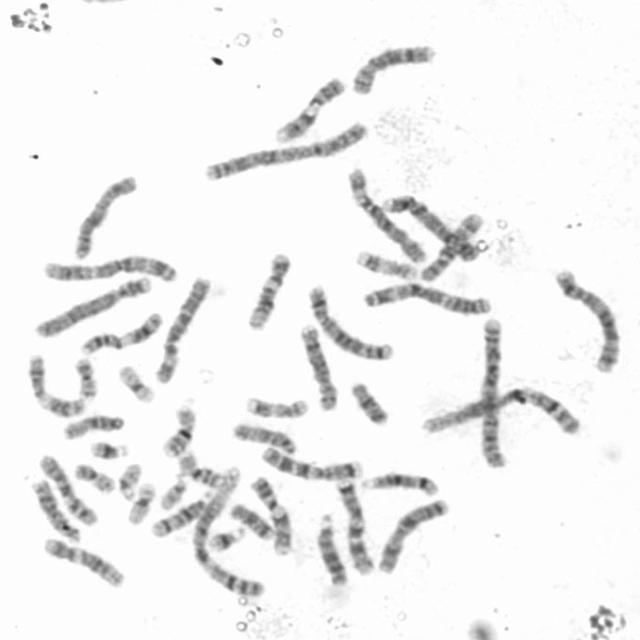A1: (185, 462, 268, 599), (418, 382, 582, 438)
A2: (197, 115, 371, 182), (475, 309, 510, 471)
A3: (357, 276, 494, 318), (38, 250, 181, 284)
B4: (29, 270, 155, 339), (378, 189, 483, 264)
B5: (550, 262, 626, 374), (302, 278, 395, 362)
C10: (417, 207, 488, 284), (34, 448, 101, 528)
C11: (75, 306, 166, 356), (23, 349, 88, 418)
C12: (39, 532, 128, 588), (242, 246, 293, 332)
C6: (342, 160, 430, 264), (150, 271, 215, 385)
C7: (332, 473, 376, 575), (256, 442, 366, 482)
C8: (348, 39, 439, 96), (294, 319, 341, 413)
C9: (268, 71, 348, 145), (246, 471, 296, 557)
D13: (26, 473, 82, 543), (312, 508, 351, 587)
D14: (147, 486, 216, 540), (357, 466, 443, 497)
D15: (227, 417, 299, 456), (58, 408, 127, 441)
E16: (156, 397, 200, 459), (174, 447, 227, 490)
E17: (351, 245, 420, 281), (240, 390, 312, 421)
E18: (345, 376, 391, 427), (225, 498, 276, 541)
F19: (113, 360, 158, 405), (122, 477, 158, 526)
F20: (69, 457, 118, 494), (70, 352, 101, 401)
G21: (205, 520, 246, 554), (86, 436, 132, 460)
G22: (156, 472, 190, 512), (114, 458, 144, 501)
X: (374, 492, 454, 576), (69, 170, 140, 260)
